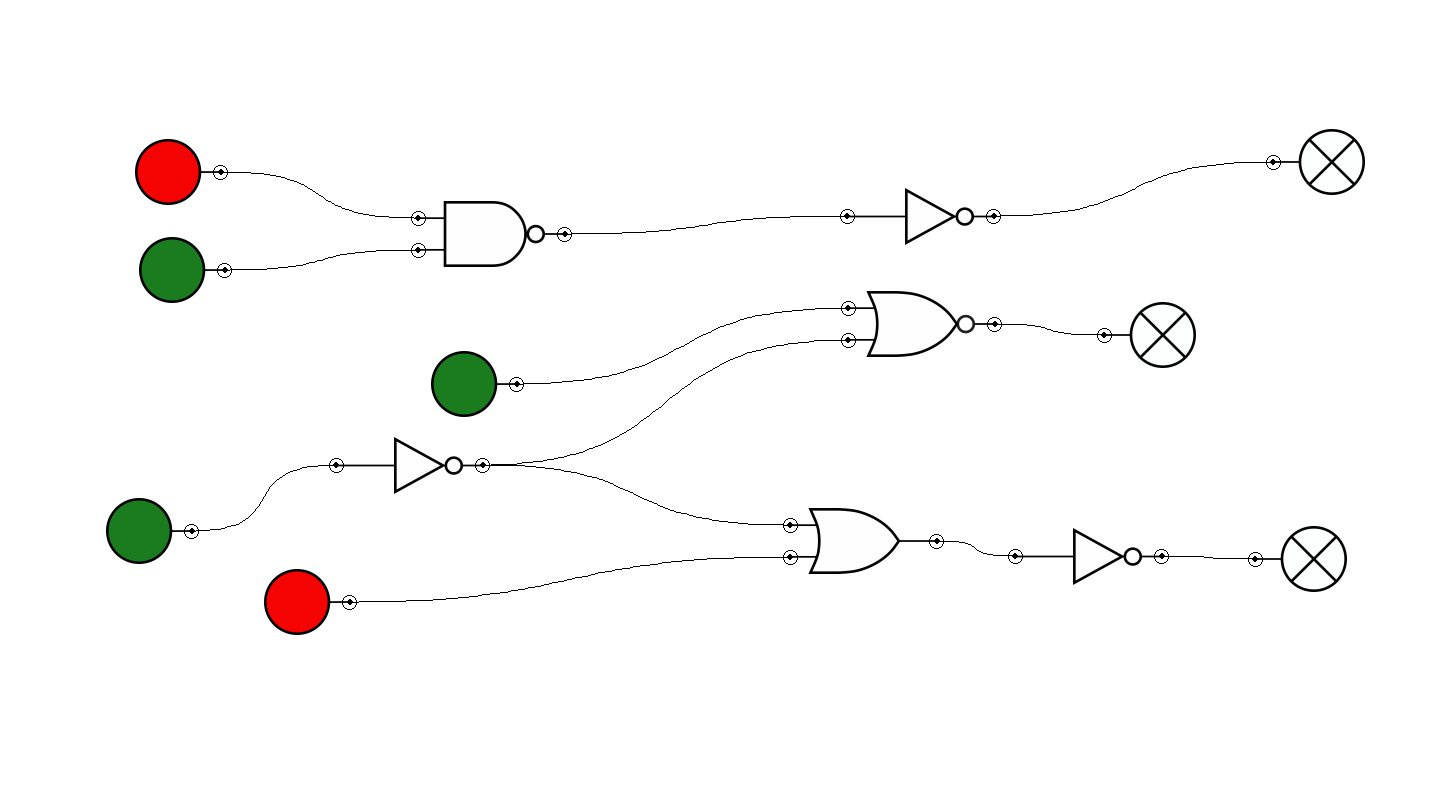bulb: (1266, 129, 1365, 195), (1097, 302, 1196, 368), (1248, 526, 1347, 592)
nand: (411, 201, 572, 267)
nor: (841, 291, 1002, 357)
not: (1008, 528, 1169, 585), (840, 188, 1001, 245), (329, 437, 490, 494)
or: (783, 508, 944, 574)
switch_False: (264, 569, 357, 635), (135, 139, 228, 205)
switch_True: (139, 237, 232, 303), (431, 351, 524, 417), (106, 498, 199, 564)
